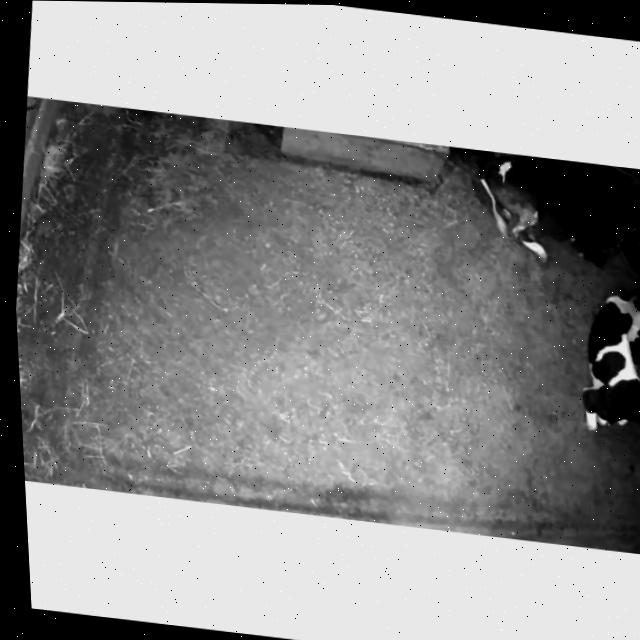lay: (456, 148, 640, 293), (555, 283, 640, 447)
